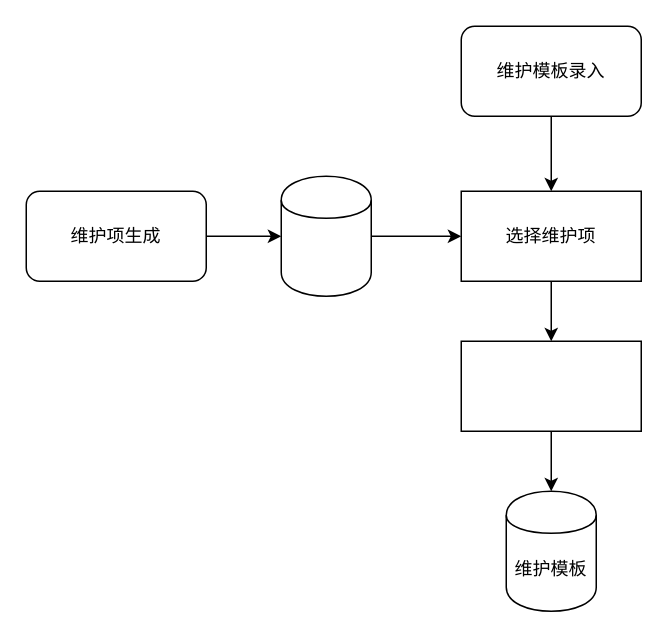
Image size: 668x638. Some labels were removed from this diagram. The shapes that lost their labels are listed below. From the top down, each one's centre as x and y in pixels, then its label:
pixel 325 235: 维护项
pixel 550 385: 关联维护项信息，生成维护模板
